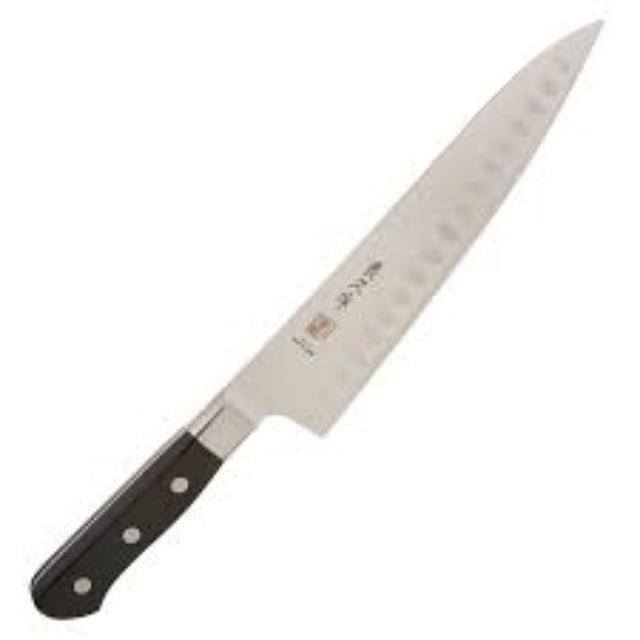Knife: (26, 15, 606, 618)
